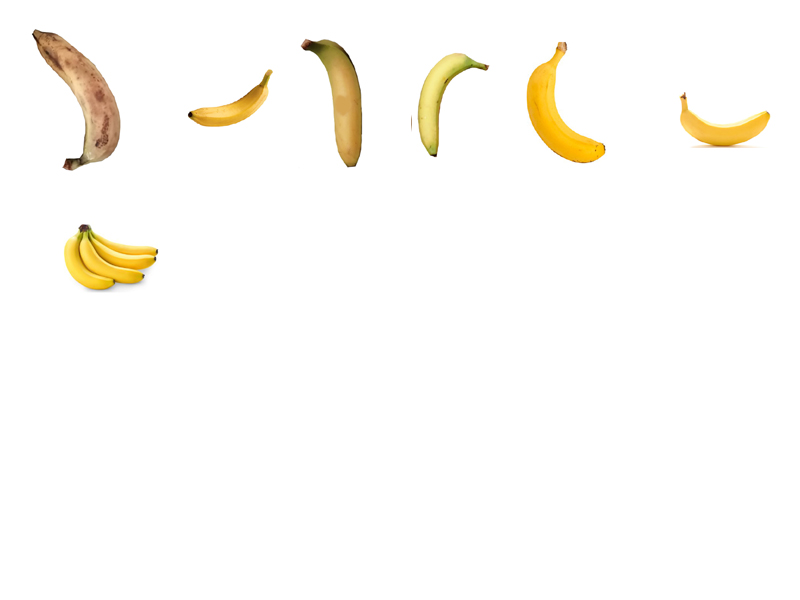banana: (20, 26, 121, 174), (517, 38, 611, 164), (412, 46, 499, 156), (298, 32, 366, 170), (59, 217, 163, 297), (184, 64, 275, 130), (668, 89, 771, 147)
